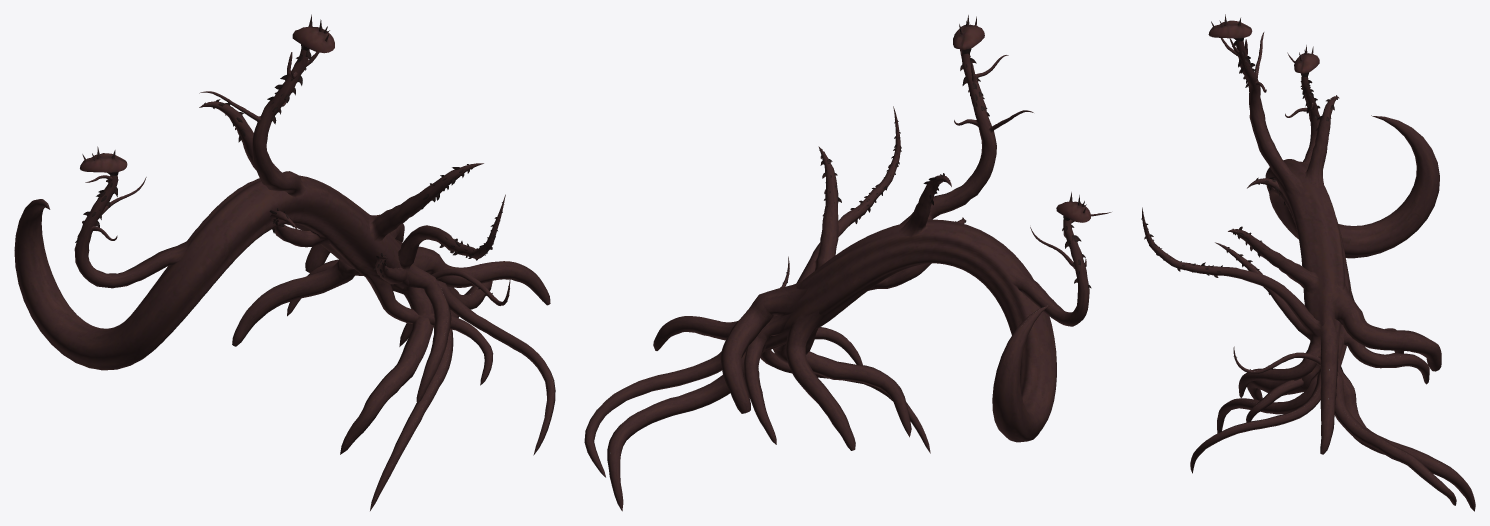
3 renders of one model, left to right at view 1: azimuth 30°, elevation 25°; view 2: azimuth 150°, elevation 25°; view 3: azimuth 270°, elevation 25°, orthographic. The views are drawn at different scales.
Parts seen in each view (by area): view 1: SM_Spiked_Plant_02_LOD0; view 2: SM_Spiked_Plant_02_LOD0; view 3: SM_Spiked_Plant_02_LOD0.
Part boxes in pixels (x1,y1,x2,y2): SM_Spiked_Plant_02_LOD0: (14,14,555,510); SM_Spiked_Plant_02_LOD0: (584,15,1111,511); SM_Spiked_Plant_02_LOD0: (1141,14,1475,511).
Size of the model in its own units: 6.56 by 6.4 by 4.74.
1 material, 1 textured.
